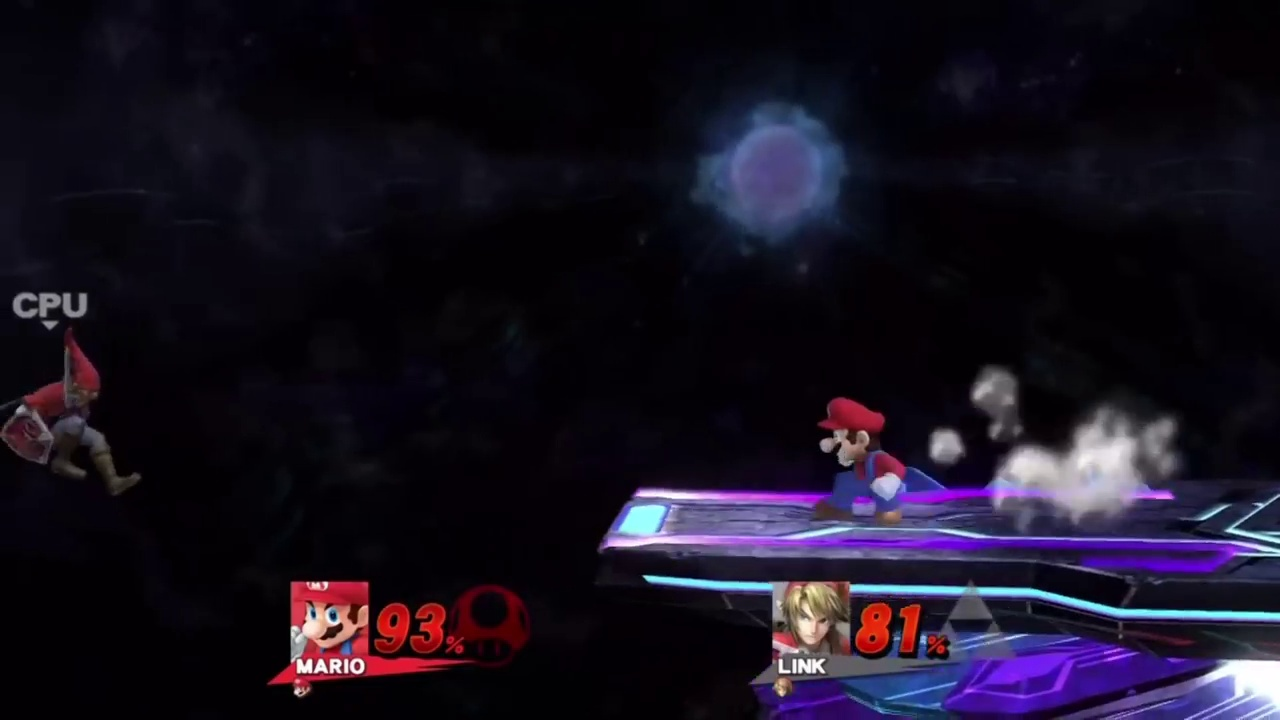Mario: (817, 398, 903, 523)
